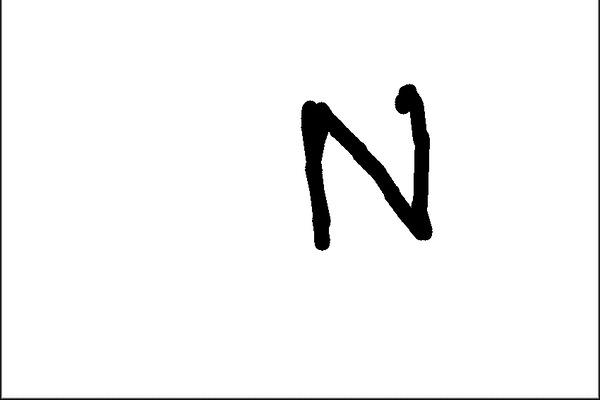N: (291, 77, 440, 256)
